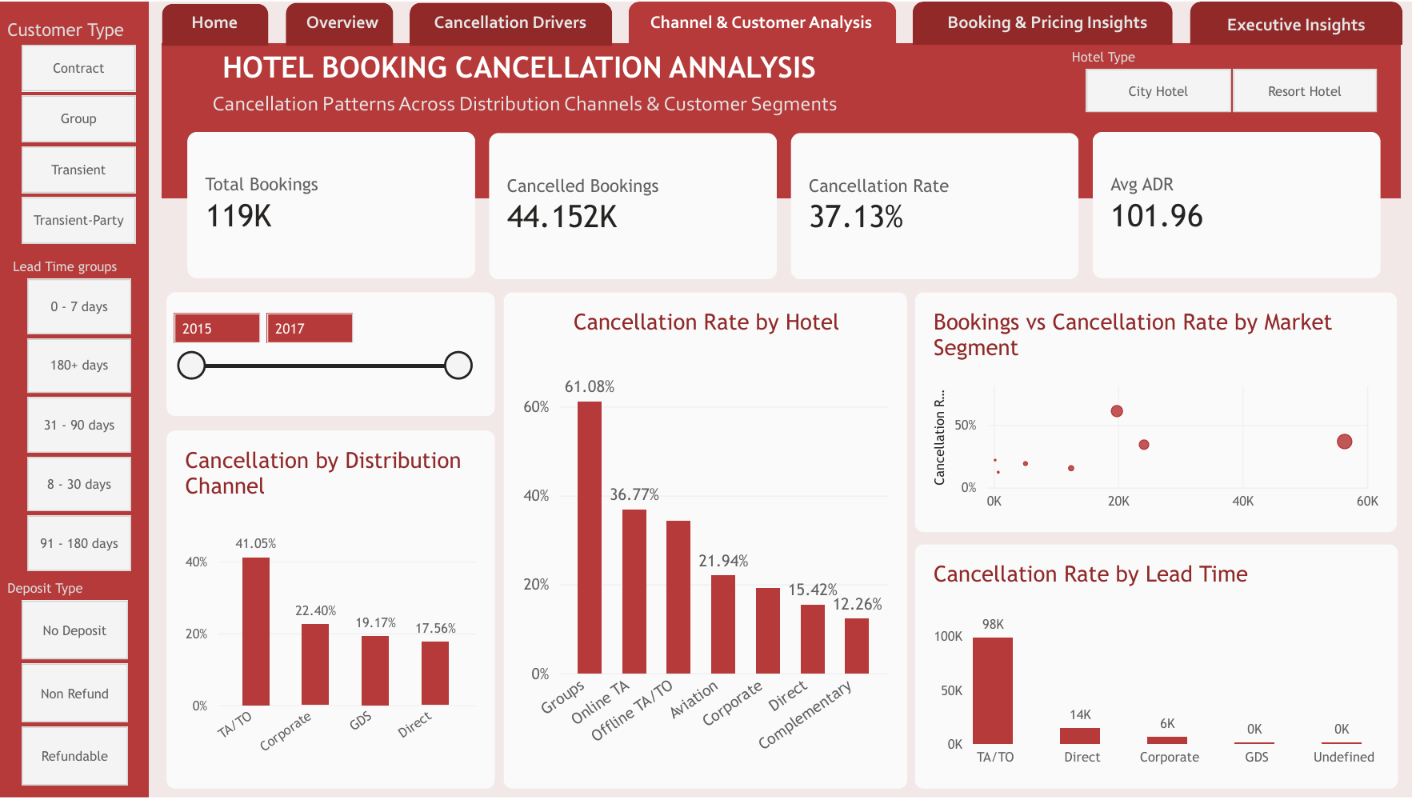

What the dashboard file says about the page in this screenshot:
{"tool":"powerbi","page":{"name":"Channel & Customer Analysis ","canvas":[1280,720],"ordinal":3},"visuals":[{"type":"shape","box":[0,1.6,134.5,718],"z":0},{"type":"shape","box":[148.2,38.3,1120.8,140],"z":0,"group":"g3"},{"type":"textbox","box":[201.3,47,606.4,35.1],"z":0,"group":"g1"},{"type":"shape","box":[372,0.7,182.6,39],"z":1000,"group":"g3"},{"type":"textbox","box":[234.3,83.3,589.9,25.3],"z":1000,"group":"g1"},{"type":"shape","box":[145.2,247.4,311.9,138],"z":1000},{"type":"shape","box":[827.3,0,234.9,39],"z":2000,"group":"g3"},{"type":"shape","box":[452.7,247.8,376.2,472],"z":2000},{"type":"shape","box":[570.1,0,241.6,39],"z":3000,"group":"g3"},{"type":"shape","box":[144.5,379.6,311.3,339.9],"z":3000},{"type":"shape","box":[259.6,0.6,96.8,39],"z":4000,"group":"g3"},{"type":"clusteredColumnChart","title":"Cancellation Rate by Market Segment","fields":{"Y":[" Measures.Cancellation Rate"],"Category":["hotel_bookings.market_segment"]},"box":[457.1,258.2,364.4,454.5],"z":4000},{"type":"shape","box":[1077.8,0.3,192,39],"z":5000,"group":"g3"},{"type":"shape","box":[826.1,483.3,444.1,236.7],"z":5000},{"type":"shape","box":[148.2,2.1,95.7,37.8],"z":6000,"group":"g3"},{"type":"columnChart","title":"Booking Volume by Distribution Channel","fields":{"Y":[" Measures.Total Bookings"],"Category":["hotel_bookings.distribution_channel"]},"box":[832.3,490.8,436.7,220.8],"z":6000},{"type":"group","id":"g1","title":"Group 3","box":[201.3,47,623,61.6],"z":7000,"group":"g3"},{"type":"shape","box":[821.2,248.2,449,240],"z":7000},{"type":"group","id":"g2","title":"Group 5","box":[145.8,9,905.2,28],"z":8000,"group":"g3"},{"type":"scatterChart","title":"Bookings vs Cancellation Rate by Market Segment","fields":{"X":[" Measures.Total Bookings"],"Y":[" Measures.Cancellation Rate"],"Category":["hotel_bookings.market_segment"],"Size":[" Measures.Cancelled Bookings"]},"box":[831,258,434.3,225.3],"z":8000},{"type":"group","id":"g3","title":"Group 1","box":[145.8,0,1124,178.3],"z":9000},{"type":"textbox","box":[1102.6,10.6,142.4,25.3],"z":9000,"group":"g3"},{"type":"slicer","fields":{"Values":["hotel_bookings.arrival_date_year"]},"box":[158.8,276.3,280.5,79.1],"z":10000},{"type":"columnChart","title":"Cancellation by Distribution Channel","fields":{"Category":["hotel_bookings.distribution_channel"],"Y":[" Measures.Cancellation Rate"]},"box":[152.5,390.7,297,322.4],"z":11000},{"type":"slicer","fields":{"Values":["hotel_bookings.lead_time_groups"]},"box":[0,233.4,135,282.7],"z":12000},{"type":"slicer","fields":{"Values":["hotel_bookings.hotel"]},"box":[962.4,47.6,303.3,58.8],"z":13000},{"type":"slicer","fields":{"Values":["hotel_bookings.customer_type"]},"box":[0,15.9,142.9,204.9],"z":14000},{"type":"shape","box":[155.4,110,279.9,144.8],"z":15000,"group":"g6"},{"type":"shape","box":[429.5,110,279.9,144.8],"z":15000,"group":"g5"},{"type":"shape","box":[703.6,110,279.9,144.8],"z":15000,"group":"g4"},{"type":"shape","box":[978,110,280.2,145.3],"z":15000,"group":"g7"},{"type":"slicer","fields":{"Values":["hotel_bookings.deposit_type"]},"box":[0,536.8,135,169.9],"z":15000},{"type":"group","id":"g4","title":"Group 2","box":[703.6,110,280.2,145.3],"z":16000},{"type":"cardVisual","title":"Total Bookings","fields":{"Data":[" Measures.Cancelled Bookings"]},"box":[444.6,151.7,253.4,65.1],"z":16000,"group":"g5"},{"type":"cardVisual","title":"Total Bookings","fields":{"Data":[" Measures.Total Bookings"]},"box":[170.8,152.2,253.4,65.1],"z":16000,"group":"g6"},{"type":"cardVisual","title":"Total Bookings","fields":{"Data":[" Measures.Cancellation Rate"]},"box":[719,152.2,253.4,65.1],"z":16000,"group":"g4"},{"type":"cardVisual","title":"Total Bookings","fields":{"Data":[" Measures.Avg ADR"]},"box":[989.5,152.2,253.4,65.1],"z":16000,"group":"g7"},{"type":"group","id":"g5","title":"Group 2","box":[429.5,110,279.9,144.8],"z":17000},{"type":"textbox","box":[458.2,132.4,228,20.5],"z":17000,"group":"g5"},{"type":"textbox","box":[184.4,132.9,228,20.5],"z":17000,"group":"g6"},{"type":"textbox","box":[732.6,132.9,228,20.5],"z":17000,"group":"g4"},{"type":"textbox","box":[1003.1,132.9,228,20.5],"z":17000,"group":"g7"},{"type":"group","id":"g6","title":"Group 2","box":[155.4,110,279.9,144.8],"z":18000},{"type":"image","box":[616.4,154.6,66.4,65],"z":18000,"group":"g5"},{"type":"image","box":[342.6,155.1,66.4,65],"z":18000,"group":"g6"},{"type":"image","box":[890.8,155.1,66.4,65],"z":18000,"group":"g4"},{"type":"image","box":[1161.3,155.1,66.4,65],"z":18000,"group":"g7"},{"type":"textbox","box":[145.8,9.1,99.1,27.8],"z":19000,"group":"g2"},{"type":"group","id":"g7","title":"Group 2","box":[978,110,280.2,145.3],"z":19000},{"type":"image","box":[164.1,43.4,51.9,61.5],"z":19001},{"type":"textbox","box":[261.5,9.1,98,26.7],"z":20000,"group":"g2"},{"type":"textbox","box":[376.4,9.1,172.5,27.8],"z":21000,"group":"g2"},{"type":"textbox","box":[577.9,9,227.1,25.6],"z":22000,"group":"g2"},{"type":"textbox","box":[847.3,9,203.7,23.4],"z":23000,"group":"g2"}]}

Visuals, with their boxes in screenshot pixels (x1, y1, x2, y2), scaled from the page's 1280x720 canvas onto the 1412x798 screenshot:
shape: {"left": 0, "top": 2, "right": 148, "bottom": 797}
shape: {"left": 163, "top": 42, "right": 1400, "bottom": 198}
textbox: {"left": 222, "top": 52, "right": 891, "bottom": 91}
shape: {"left": 410, "top": 1, "right": 612, "bottom": 44}
textbox: {"left": 258, "top": 92, "right": 909, "bottom": 120}
shape: {"left": 160, "top": 274, "right": 504, "bottom": 427}
shape: {"left": 913, "top": 0, "right": 1172, "bottom": 43}
shape: {"left": 499, "top": 275, "right": 914, "bottom": 797}
shape: {"left": 629, "top": 0, "right": 895, "bottom": 43}
shape: {"left": 159, "top": 421, "right": 503, "bottom": 797}
shape: {"left": 286, "top": 1, "right": 393, "bottom": 44}
"Cancellation Rate by Market Segment" clusteredColumnChart: {"left": 504, "top": 286, "right": 906, "bottom": 790}
shape: {"left": 1189, "top": 0, "right": 1401, "bottom": 44}
shape: {"left": 911, "top": 536, "right": 1401, "bottom": 797}
shape: {"left": 163, "top": 2, "right": 269, "bottom": 44}
"Booking Volume by Distribution Channel" columnChart: {"left": 918, "top": 544, "right": 1400, "bottom": 789}
"Group 3" group: {"left": 222, "top": 52, "right": 909, "bottom": 120}
shape: {"left": 906, "top": 275, "right": 1401, "bottom": 541}
"Group 5" group: {"left": 161, "top": 10, "right": 1159, "bottom": 41}
"Bookings vs Cancellation Rate by Market Segment" scatterChart: {"left": 917, "top": 286, "right": 1396, "bottom": 536}
"Group 1" group: {"left": 161, "top": 0, "right": 1401, "bottom": 198}
textbox: {"left": 1216, "top": 12, "right": 1373, "bottom": 40}
slicer - hotel_bookings.arrival_date_year: {"left": 175, "top": 306, "right": 485, "bottom": 394}
"Cancellation by Distribution Channel" columnChart: {"left": 168, "top": 433, "right": 496, "bottom": 790}
slicer - hotel_bookings.lead_time_groups: {"left": 0, "top": 259, "right": 149, "bottom": 572}
slicer - hotel_bookings.hotel: {"left": 1062, "top": 53, "right": 1396, "bottom": 118}
slicer - hotel_bookings.customer_type: {"left": 0, "top": 18, "right": 158, "bottom": 245}
shape: {"left": 171, "top": 122, "right": 480, "bottom": 282}
shape: {"left": 474, "top": 122, "right": 783, "bottom": 282}
shape: {"left": 776, "top": 122, "right": 1085, "bottom": 282}
shape: {"left": 1079, "top": 122, "right": 1388, "bottom": 283}
slicer - hotel_bookings.deposit_type: {"left": 0, "top": 595, "right": 149, "bottom": 783}
"Group 2" group: {"left": 776, "top": 122, "right": 1085, "bottom": 283}
"Total Bookings" cardVisual: {"left": 490, "top": 168, "right": 770, "bottom": 240}
"Total Bookings" cardVisual: {"left": 188, "top": 169, "right": 468, "bottom": 241}
"Total Bookings" cardVisual: {"left": 793, "top": 169, "right": 1073, "bottom": 241}
"Total Bookings" cardVisual: {"left": 1092, "top": 169, "right": 1371, "bottom": 241}
"Group 2" group: {"left": 474, "top": 122, "right": 783, "bottom": 282}
textbox: {"left": 505, "top": 147, "right": 757, "bottom": 169}
textbox: {"left": 203, "top": 147, "right": 455, "bottom": 170}
textbox: {"left": 808, "top": 147, "right": 1060, "bottom": 170}
textbox: {"left": 1107, "top": 147, "right": 1358, "bottom": 170}
"Group 2" group: {"left": 171, "top": 122, "right": 480, "bottom": 282}
image: {"left": 680, "top": 171, "right": 753, "bottom": 243}
image: {"left": 378, "top": 172, "right": 451, "bottom": 244}
image: {"left": 983, "top": 172, "right": 1056, "bottom": 244}
image: {"left": 1281, "top": 172, "right": 1354, "bottom": 244}
textbox: {"left": 161, "top": 10, "right": 270, "bottom": 41}
"Group 2" group: {"left": 1079, "top": 122, "right": 1388, "bottom": 283}
image: {"left": 181, "top": 48, "right": 238, "bottom": 116}
textbox: {"left": 288, "top": 10, "right": 397, "bottom": 40}
textbox: {"left": 415, "top": 10, "right": 606, "bottom": 41}
textbox: {"left": 637, "top": 10, "right": 888, "bottom": 38}
textbox: {"left": 935, "top": 10, "right": 1159, "bottom": 36}
